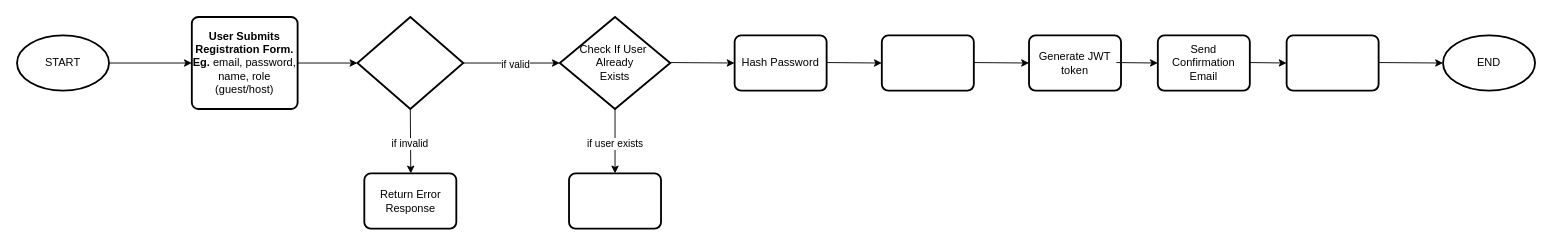
Image size: 1551x245. Some labels were removed from this diagram. Each missing label, with the centre of its shape:
"Return Success Response" goes at (1332,62).
"Return User Already Exists Response" goes at (614,200).
"Save User To Database" goes at (927,62).
"Validate Input" goes at (410,62).
